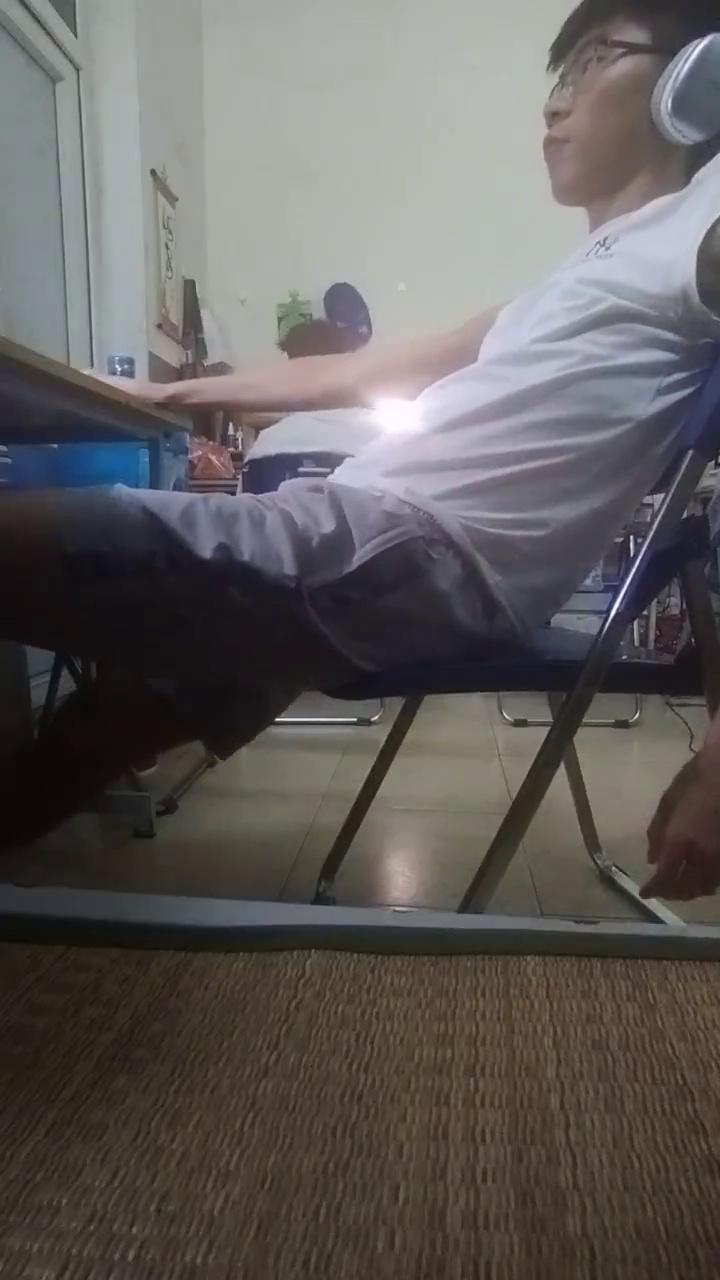BadPosture: (0, 0, 719, 853)
